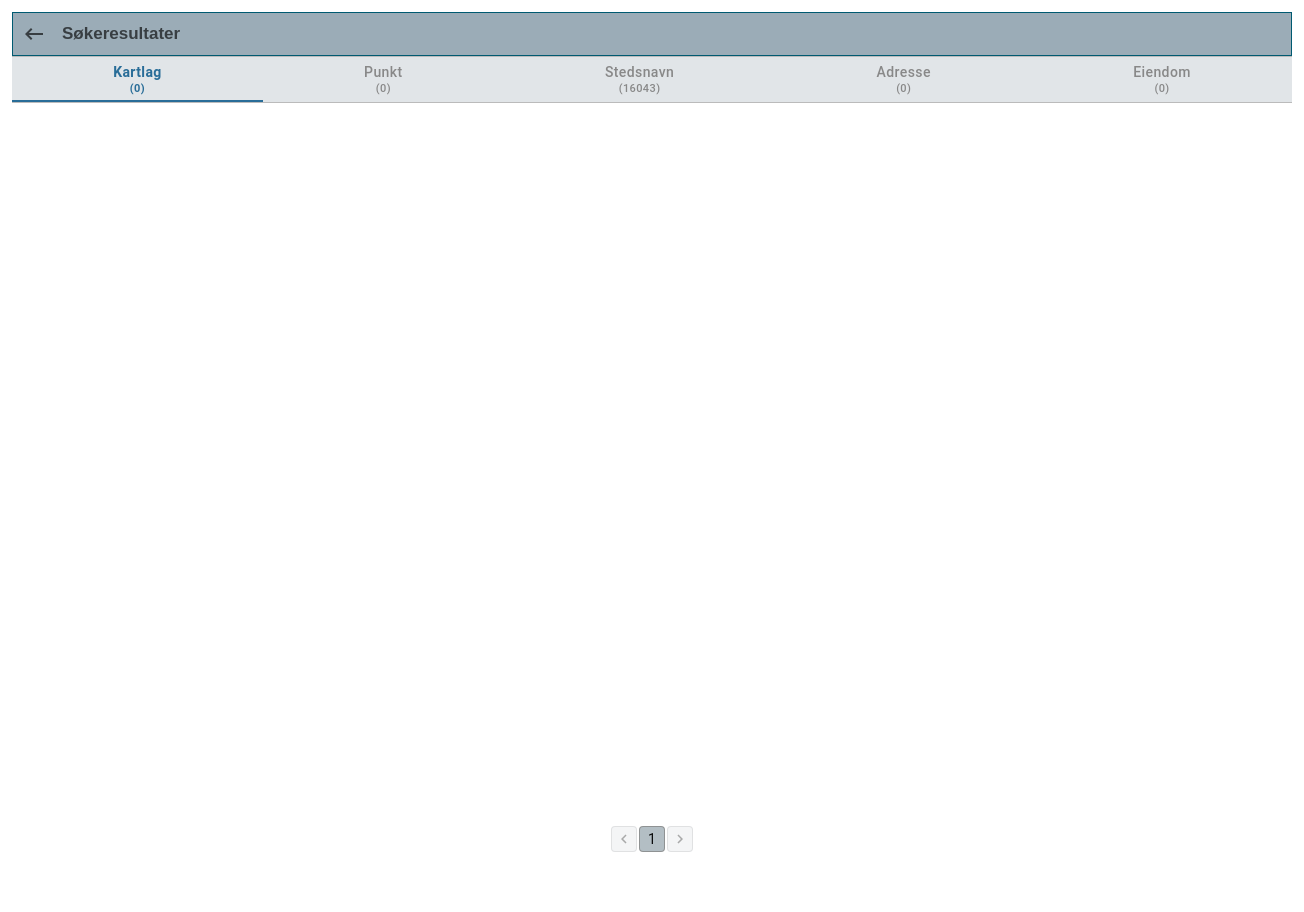
should render place results on search results page
Expected: the text "Søkeresultater" is shown, [62,24,180,44]
Expected: the text "Kartlag" is shown, [113,63,162,81]
Note: Click on places tab
Click the text "Stedsnavn" at (640, 72), box [605,63,674,81]
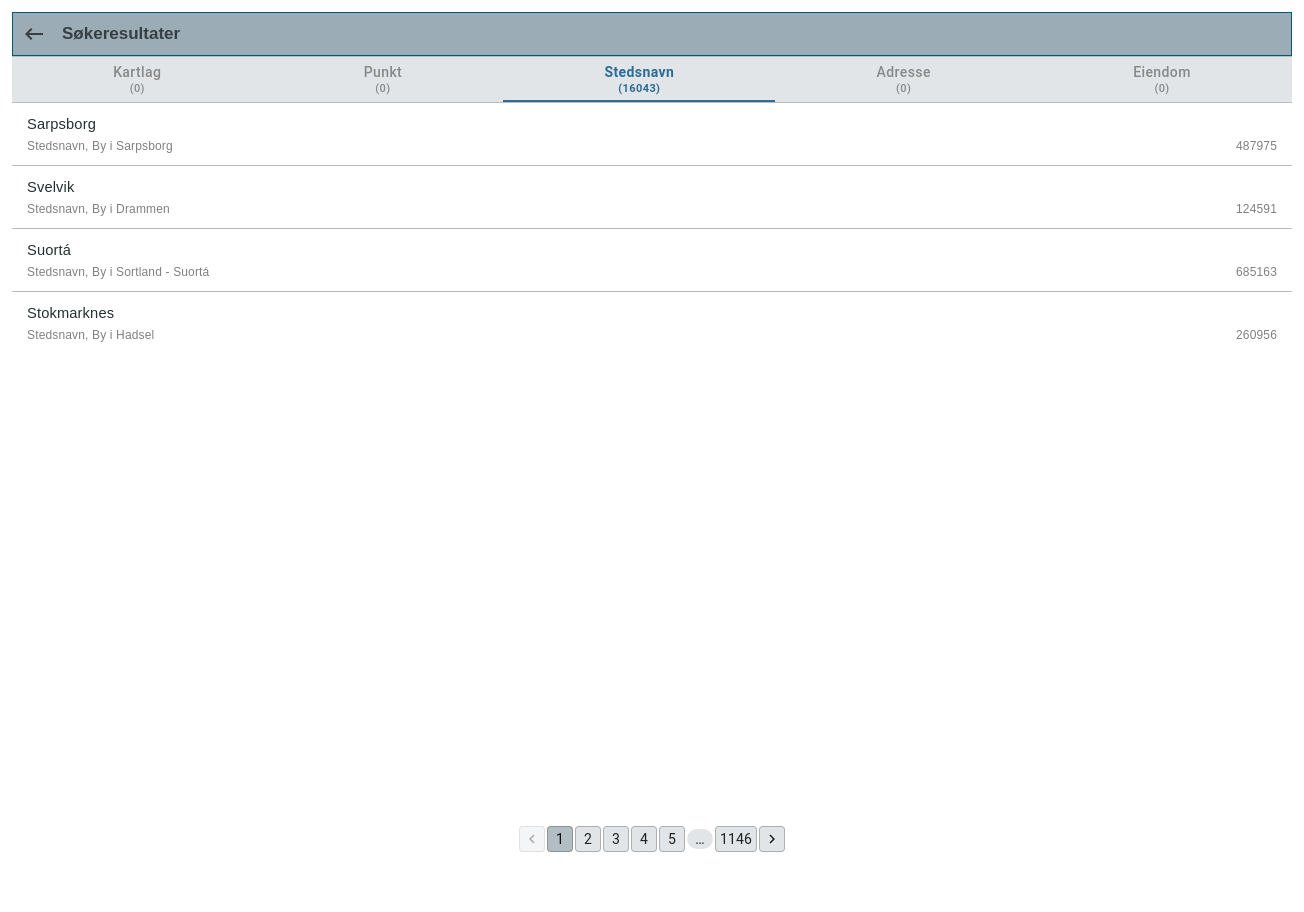
Expected: the text "Sarpsborg" is shown, [27,116,96,132]
Expected: the text "Stedsnavn, By i Sarpsborg" is shown, [27,139,173,153]
Expected: the text "487975" is shown, [1236,139,1277,153]
